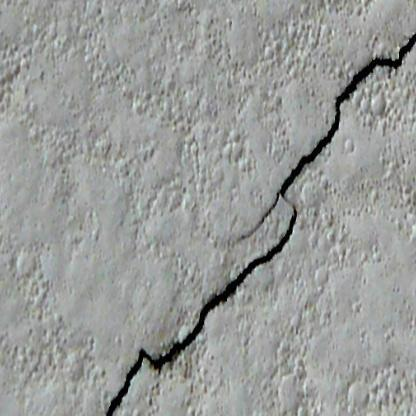Cracks: (93, 18, 416, 416)
